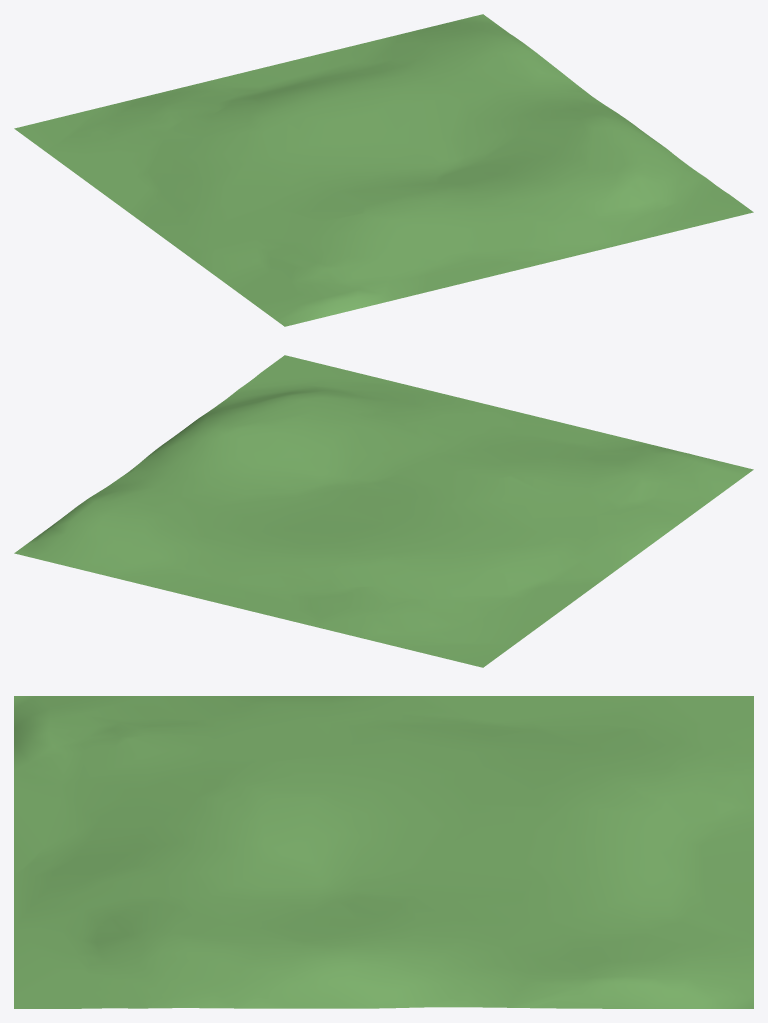
Rendered from SM_Terrain_07.obj.
3 views of the same model, one above another, from view 1: azimuth 30°, elevation 25°; view 2: azimuth 150°, elevation 25°; view 3: azimuth 270°, elevation 25° (orthographic). The views are drawn at different scales.
Visible parts, largest first — view 1: SM_Terrain_07; view 2: SM_Terrain_07; view 3: SM_Terrain_07.
Boxes of the visible parts, box(x1,y1,x2,y2) form: SM_Terrain_07: box(14, 14, 753, 326); SM_Terrain_07: box(14, 355, 753, 667); SM_Terrain_07: box(14, 696, 753, 1008).
Bounding box in the file's own units: 16.36 × 0.6469 × 16.36.
1 material, 1 textured.
